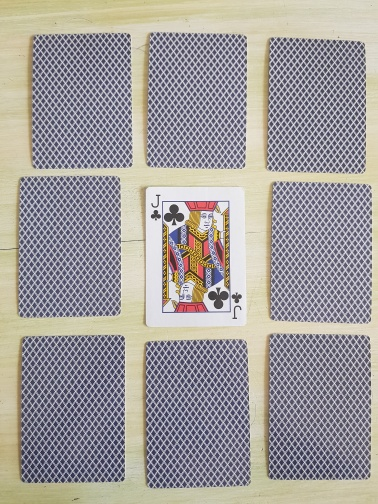jack: (145, 186, 247, 328)
